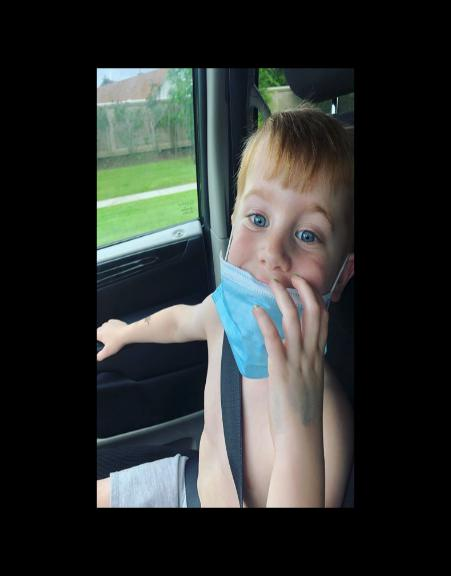mask_weared_incorrect: (230, 190, 335, 343)
